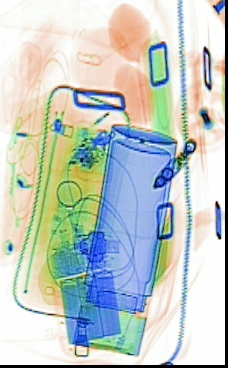powerbank: (48, 232, 123, 346)
